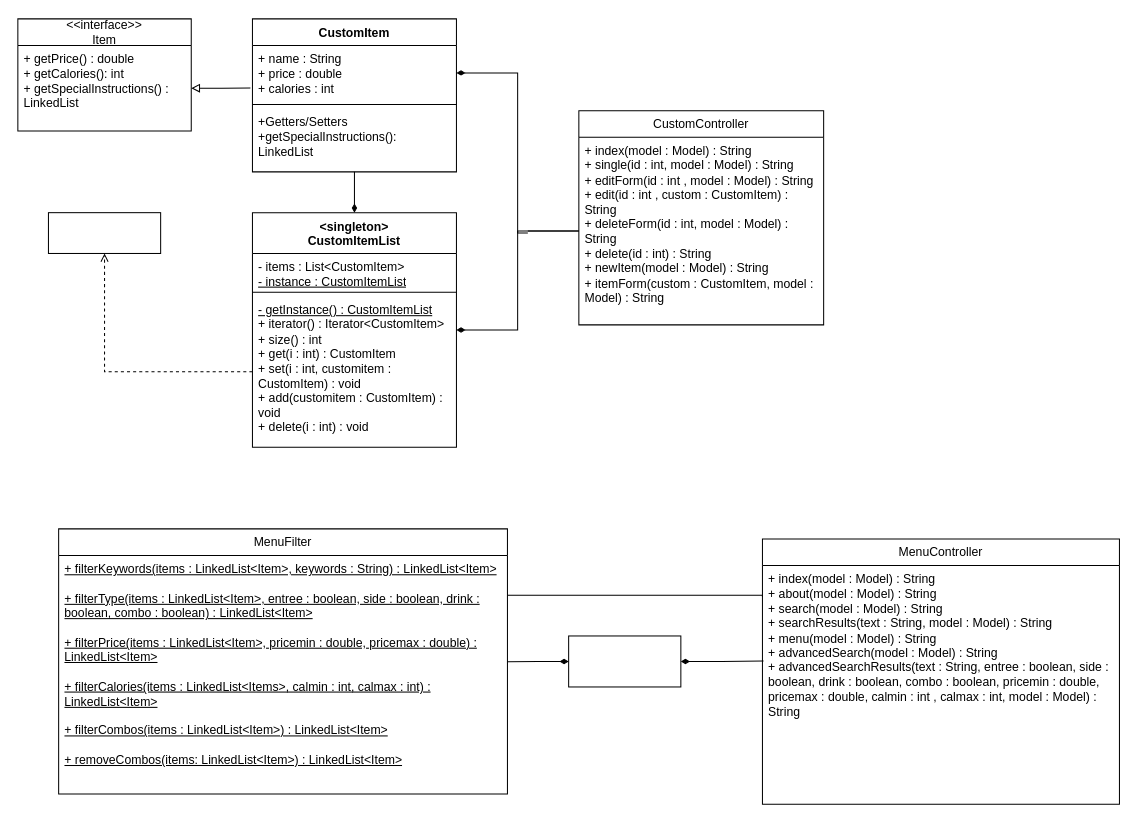
The diagram is 1137 pixels wide and 825 high, and some of its shapes have lost their labels. The shapes that lost their labels are listed below. From the top down, each one's centre as x and y in pixels, then its label:
(104,232): Iterator
(624,661): <<package>> gamegrub.data;
